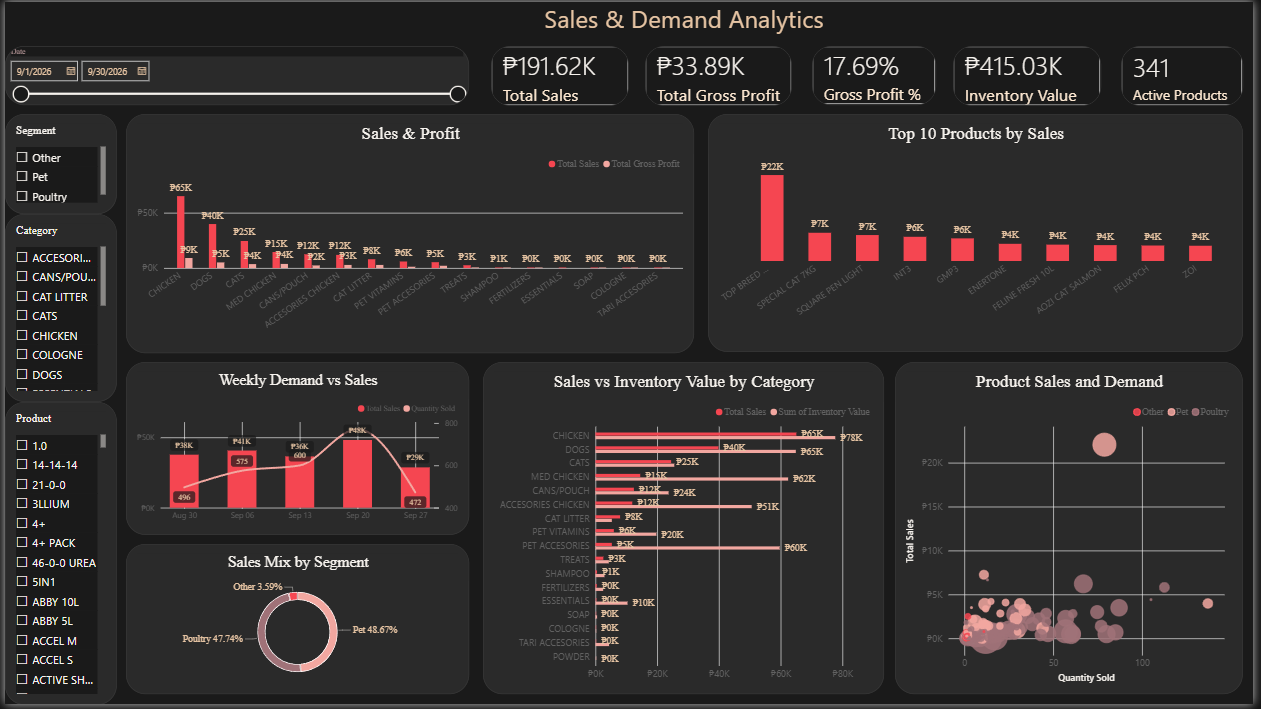

The dashboard page shown, as its layout file describes it:
{"tool":"powerbi","page":{"name":"Page 1","canvas":[1920,1080],"ordinal":0},"visuals":[{"type":"cardVisual","title":"Total Sales","fields":{"Data":["TransactionDataSets.Total Sales"]},"box":[747.7,67.7,212.3,92.3],"z":0},{"type":"cardVisual","fields":{"Data":["TransactionDataSets.Total Gross Profit"]},"box":[984.6,67.7,226.2,92.3],"z":1000},{"type":"cardVisual","fields":{"Data":["TransactionDataSets.Gross Profit %"]},"box":[1241.5,67.7,190.8,90.8],"z":2000},{"type":"cardVisual","fields":{"Data":["InventoryTable.Sum of Inventory Value"]},"box":[1458.5,67.7,227.7,92.3],"z":3000},{"type":"cardVisual","fields":{"Data":["DimProduct.Active Products"]},"box":[1716.9,67.7,187.7,92.3],"z":4000},{"type":"listSlicer","fields":{"Values":["DimProduct.Category"]},"box":[0,326.2,172.3,289.2],"z":5000},{"type":"listSlicer","fields":{"Values":["DimProduct.Product"]},"box":[0,615.4,172.3,466.2],"z":6000},{"type":"listSlicer","fields":{"Values":["DimProduct.Segment"]},"box":[0,172.3,172.3,153.8],"z":7000},{"type":"clusteredColumnChart","title":"Sales & Profit","fields":{"Category":["DimProduct.Category"],"Y":["TransactionDataSets.Total Sales","TransactionDataSets.Total Gross Profit"]},"box":[186.2,172.3,873.8,367.7],"z":8000},{"type":"clusteredColumnChart","title":"Top 10 Products by Sales","fields":{"Category":["DimProduct.Product"],"Y":["TransactionDataSets.Total Sales"]},"box":[1081.5,172.3,823.1,366.2],"z":9000},{"type":"slicer","fields":{"Values":["TransactionDataSets.Date"]},"box":[0,67.7,713.8,90.8],"z":10000},{"type":"lineClusteredColumnComboChart","title":"Weekly Demand vs Sales","fields":{"Category":["TransactionDataSets.Start of Week"],"Y":["TransactionDataSets.Total Sales"],"Y2":["TransactionDataSets.Quantity Sold"]},"box":[186.2,553.8,527.7,266.2],"z":11000},{"type":"clusteredBarChart","title":"Sales vs Inventory Value by Category","fields":{"Category":["DimProduct.Category"],"Y":["TransactionDataSets.Total Sales","InventoryTable.Sum of Inventory Value"]},"box":[735.4,553.8,616.9,510.8],"z":12000},{"type":"scatterChart","title":"Product Sales and Demand","fields":{"Category":["DimProduct.Product"],"Series":["DimProduct.Segment"],"Size":["InventoryTable.Sum of Total Stock"],"X":["TransactionDataSets.Quantity Sold"],"Y":["TransactionDataSets.Total Sales"]},"box":[1369.2,553.8,535.4,510.8],"z":13000},{"type":"donutChart","title":"Sales Mix by Segment","fields":{"Category":["DimProduct.Segment"],"Y":["TransactionDataSets.Total Sales"]},"box":[186.2,833.8,527.7,230.8],"z":14000},{"type":"textbox","box":[100,100,300,300],"z":15000},{"type":"textbox","box":[780,0,529.2,58.5],"z":17000}]}

Visuals, with their boxes in screenshot pixels (x1, y1, x2, y2), scaled from the page's 1920x1080 canvas onto the 1261x709 screenshot:
"Total Sales" cardVisual: {"x1": 491, "y1": 44, "x2": 630, "y2": 105}
cardVisual - TransactionDataSets.Total Gross Profit: {"x1": 647, "y1": 44, "x2": 795, "y2": 105}
cardVisual - TransactionDataSets.Gross Profit %: {"x1": 815, "y1": 44, "x2": 941, "y2": 104}
cardVisual - InventoryTable.Sum of Inventory Value: {"x1": 958, "y1": 44, "x2": 1107, "y2": 105}
cardVisual - DimProduct.Active Products: {"x1": 1128, "y1": 44, "x2": 1251, "y2": 105}
listSlicer - DimProduct.Category: {"x1": 0, "y1": 214, "x2": 113, "y2": 404}
listSlicer - DimProduct.Product: {"x1": 0, "y1": 404, "x2": 113, "y2": 708}
listSlicer - DimProduct.Segment: {"x1": 0, "y1": 113, "x2": 113, "y2": 214}
"Sales & Profit" clusteredColumnChart: {"x1": 122, "y1": 113, "x2": 696, "y2": 354}
"Top 10 Products by Sales" clusteredColumnChart: {"x1": 710, "y1": 113, "x2": 1251, "y2": 354}
slicer - TransactionDataSets.Date: {"x1": 0, "y1": 44, "x2": 469, "y2": 104}
"Weekly Demand vs Sales" lineClusteredColumnComboChart: {"x1": 122, "y1": 364, "x2": 469, "y2": 538}
"Sales vs Inventory Value by Category" clusteredBarChart: {"x1": 483, "y1": 364, "x2": 888, "y2": 699}
"Product Sales and Demand" scatterChart: {"x1": 899, "y1": 364, "x2": 1251, "y2": 699}
"Sales Mix by Segment" donutChart: {"x1": 122, "y1": 547, "x2": 469, "y2": 699}
textbox: {"x1": 66, "y1": 66, "x2": 263, "y2": 263}
textbox: {"x1": 512, "y1": 0, "x2": 860, "y2": 38}
